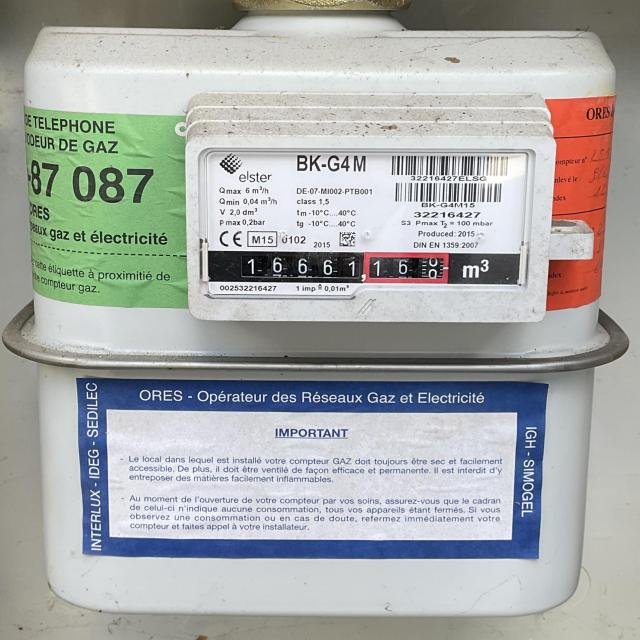gaz_meter: (201, 146, 525, 290)
indication: (231, 250, 449, 284)
